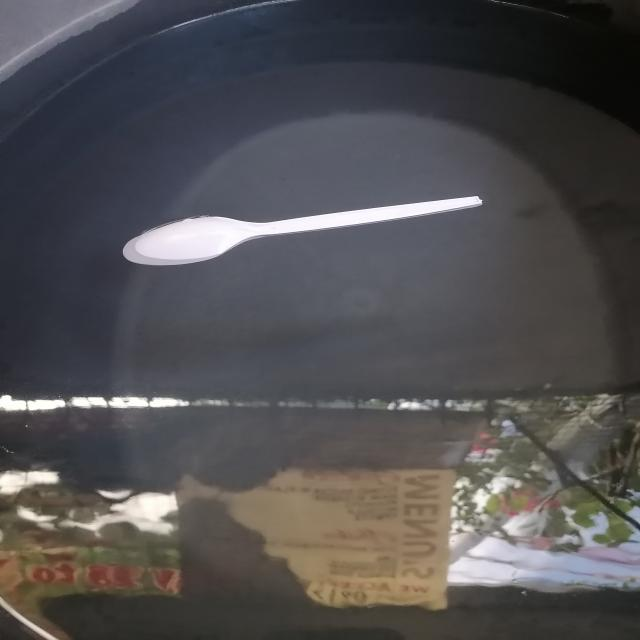Plastic Spoon: (107, 182, 499, 280)
